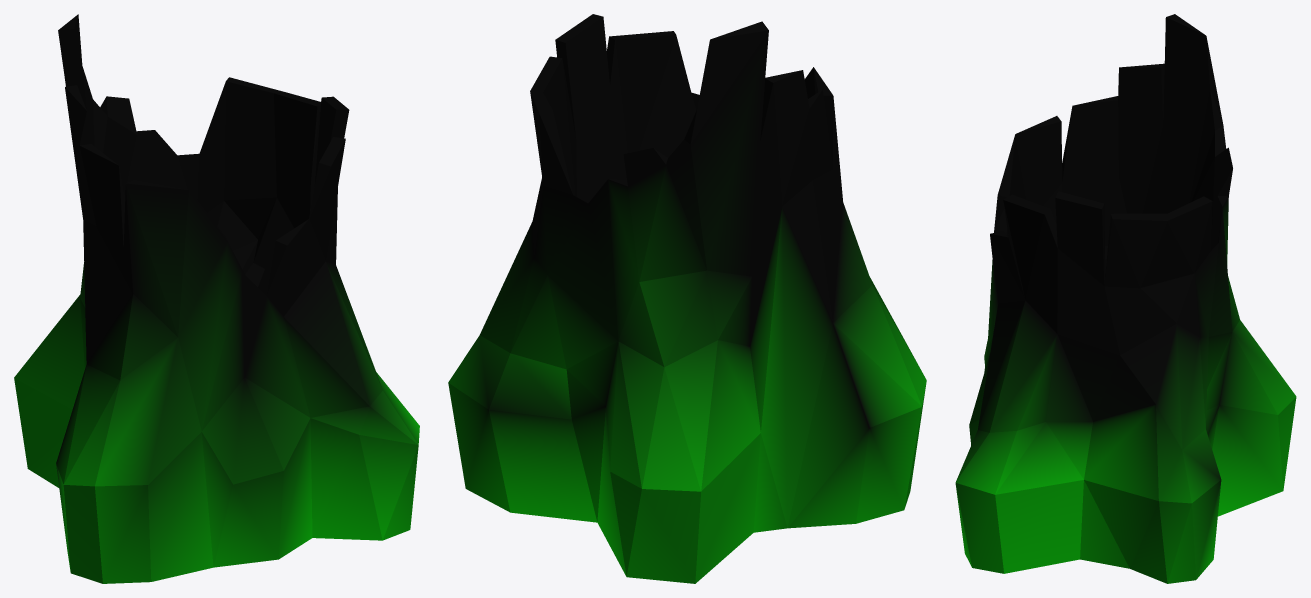
File: SM_Collision_OakStump1.fbx
The picture shows the model from 3 angles, left to right: view 1: azimuth 30°, elevation 25°; view 2: azimuth 150°, elevation 25°; view 3: azimuth 270°, elevation 25°; orthographic projection. The views are drawn at different scales.
Visible parts, largest first — view 1: OakStump1_Collision; view 2: OakStump1_Collision; view 3: OakStump1_Collision.
Boxes of the visible parts, x1,y1,x2,y2 form: OakStump1_Collision: (14,14,419,583); OakStump1_Collision: (448,14,926,583); OakStump1_Collision: (955,14,1296,583).
Bounding box in the file's own units: 257 × 231 × 335.
